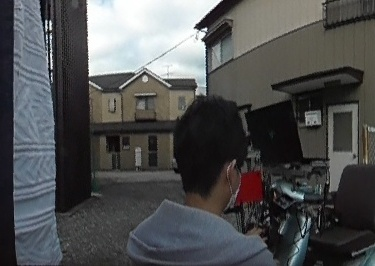person: (140, 92, 276, 266)
